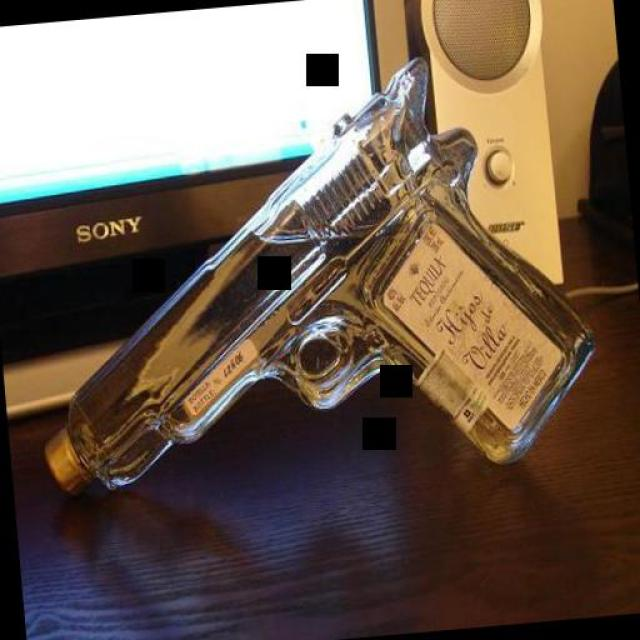gun: (9, 42, 601, 506)
